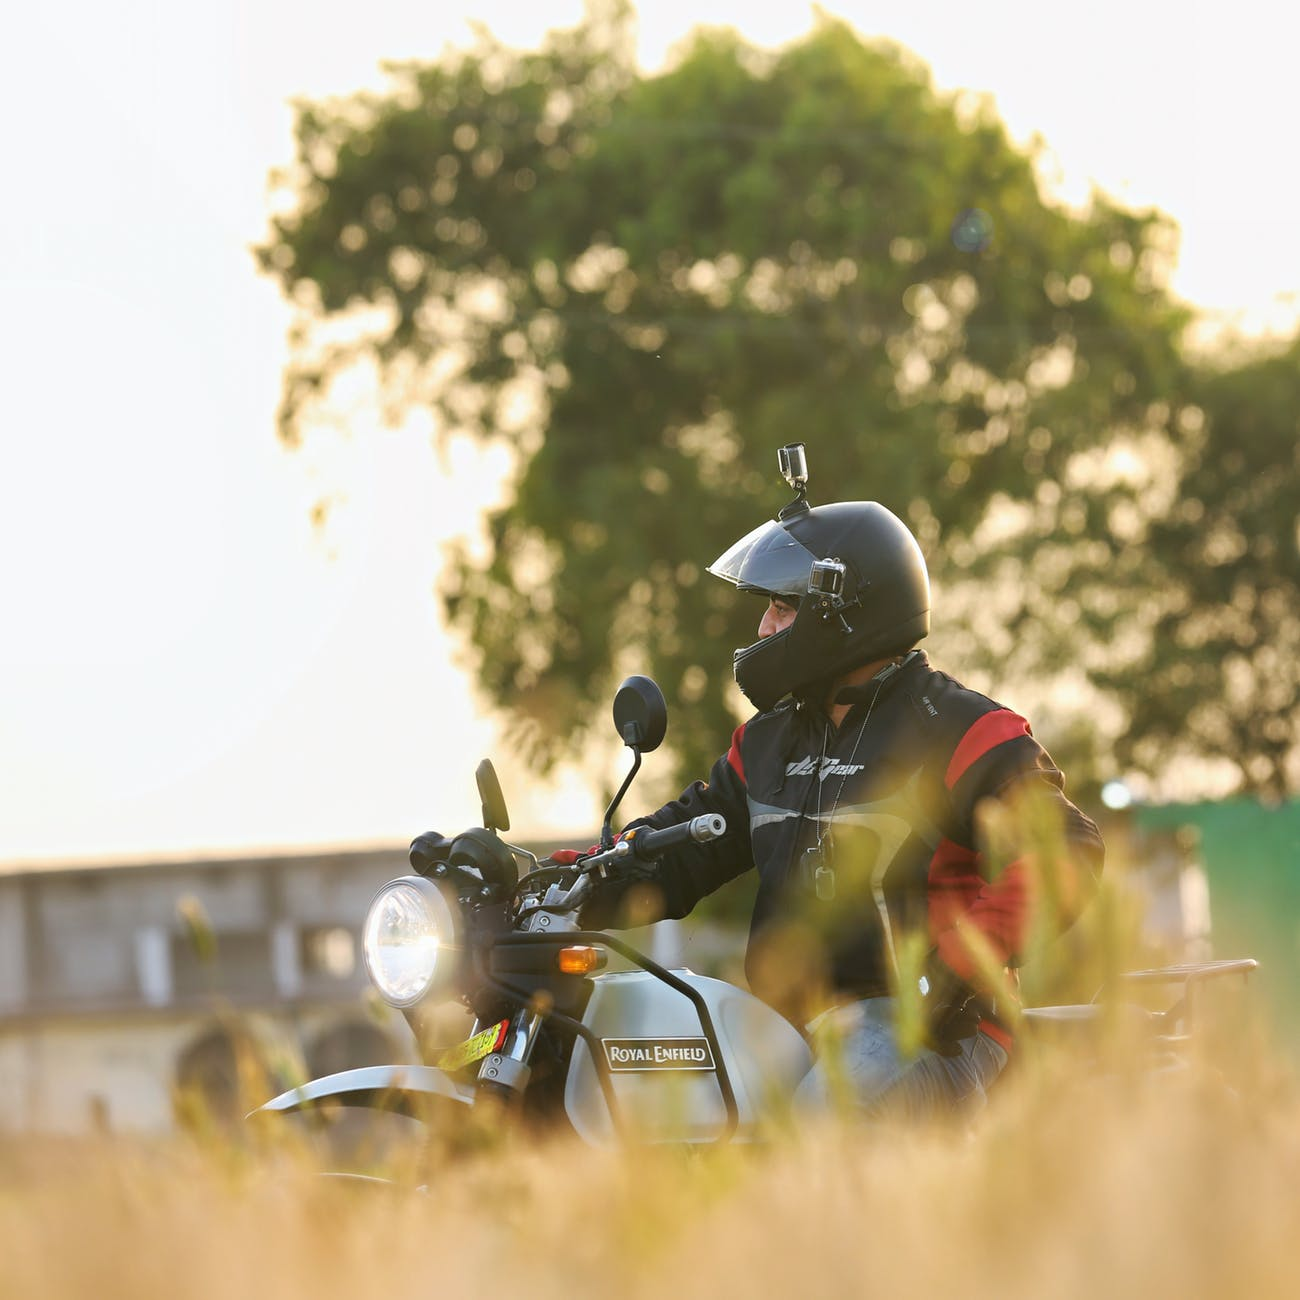helmet: (723, 505, 923, 677)
